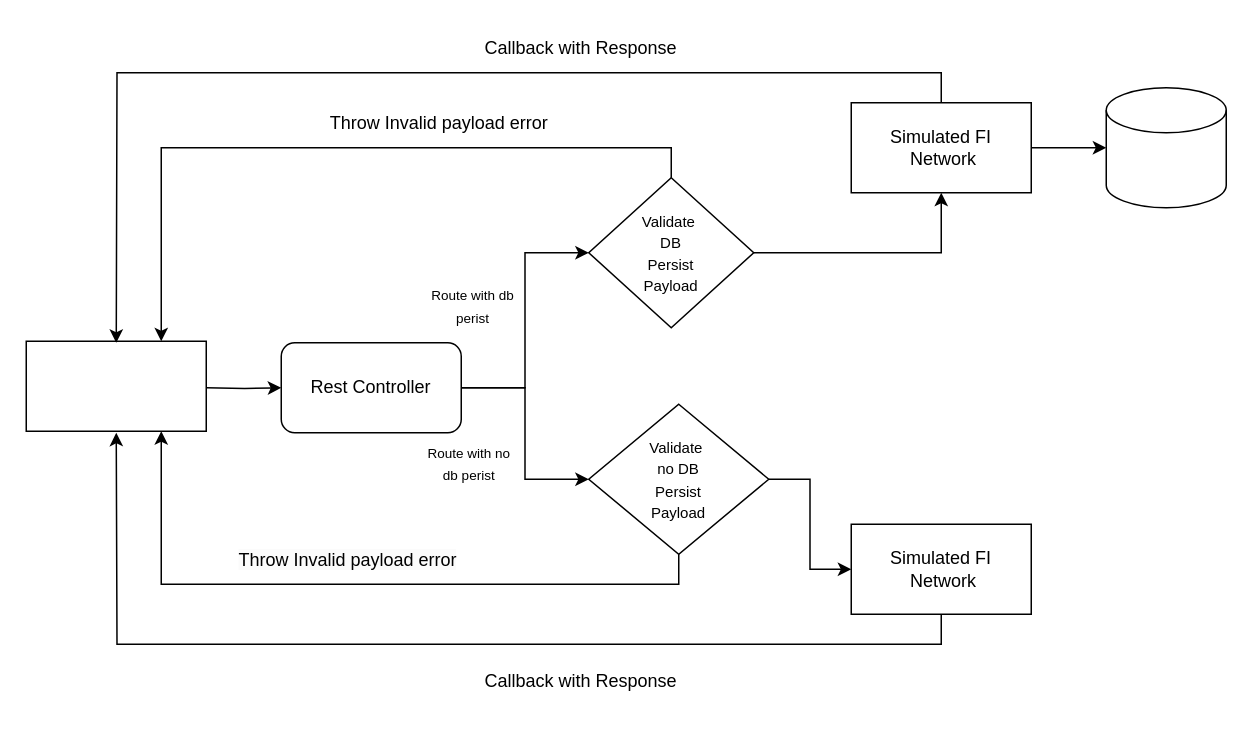
Some shapes in this 1253 by 729 pixel diagram are drawn without their labels. Each missing label, with the box of its shape:
Payment Intiation: (25, 340, 206, 431)
Perist Response & Object: (1105, 86, 1226, 208)
